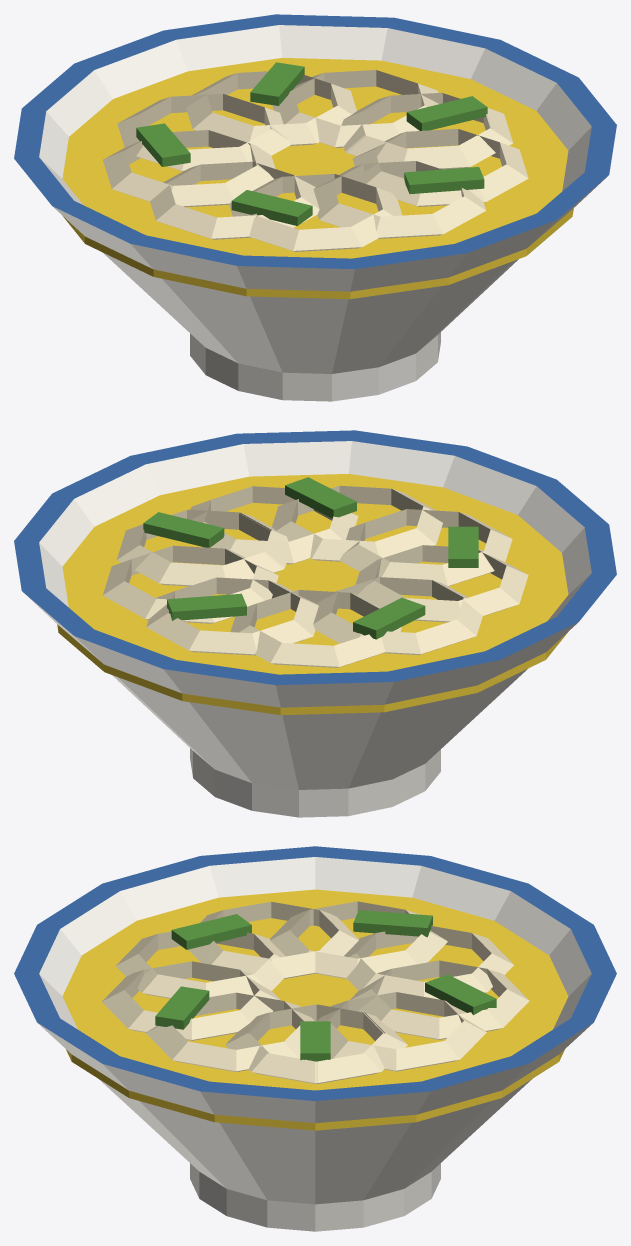
File: PRP_NoodleBowl.fbx
3 views of the same model, one above another, from view 1: azimuth 30°, elevation 25°; view 2: azimuth 150°, elevation 25°; view 3: azimuth 270°, elevation 25° (orthographic).
Parts seen in each view (by area): view 1: PRP_NoodleBowl; view 2: PRP_NoodleBowl; view 3: PRP_NoodleBowl.
Boxes of the visible parts, left/top/right/bottom form: PRP_NoodleBowl: left=14, top=14, right=616, bottom=401; PRP_NoodleBowl: left=14, top=430, right=616, bottom=817; PRP_NoodleBowl: left=14, top=846, right=616, bottom=1231.
Bounding box in the file's own units: 0.24 × 0.09 × 0.24.
